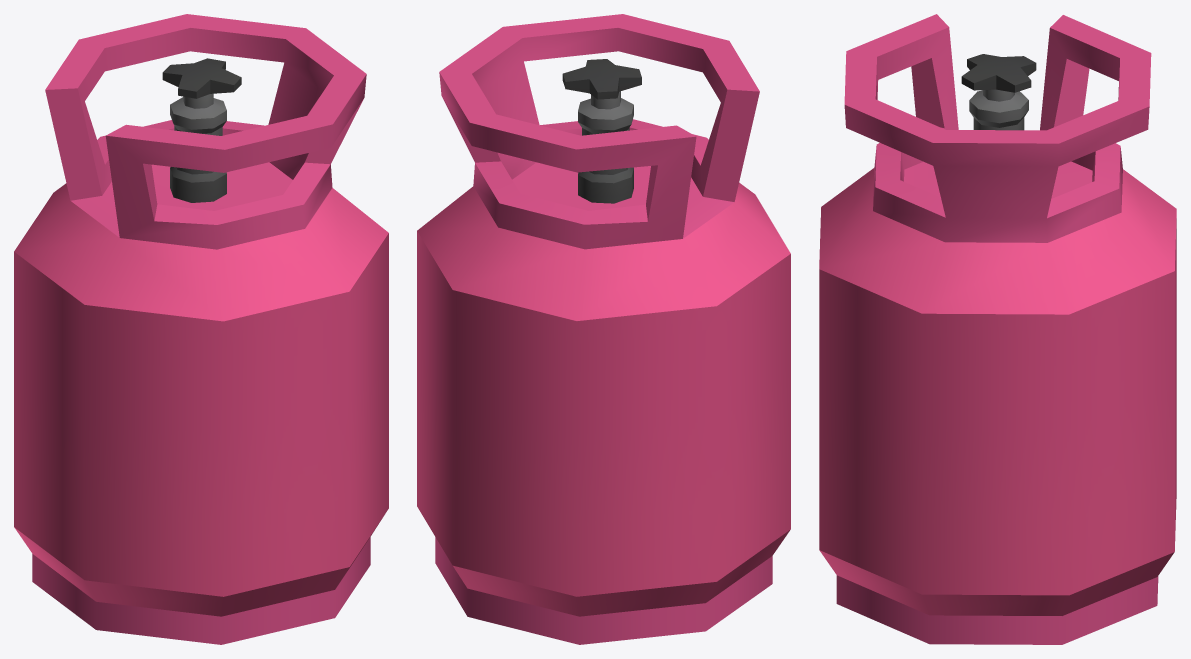
Rendered from GasCylinder_2_5.glb.
3 views of the same model, side by side, from view 1: azimuth 30°, elevation 25°; view 2: azimuth 150°, elevation 25°; view 3: azimuth 270°, elevation 25° (orthographic).
Parts seen in each view (by area): view 1: GasCylinder_2_5; view 2: GasCylinder_2_5; view 3: GasCylinder_2_5.
Boxes of the visible parts, x1,y1,x2,y2 form: GasCylinder_2_5: (14,14,388,644); GasCylinder_2_5: (417,14,790,644); GasCylinder_2_5: (819,14,1176,644).
Size of the model in its own units: 0.3847 by 0.607 by 0.3847.
3 materials, 3 textured.
